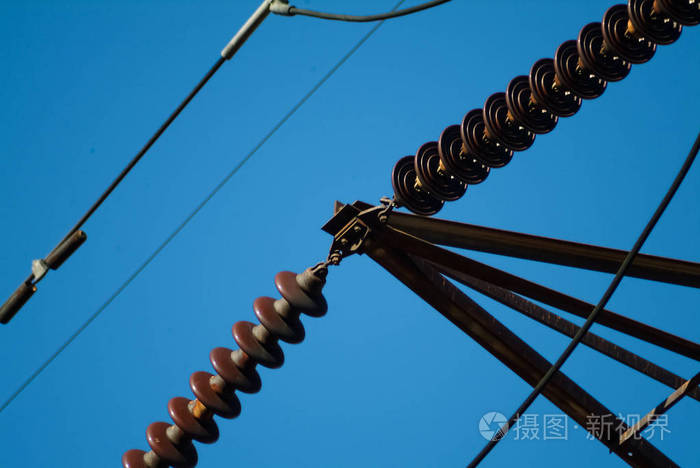insulator: (392, 2, 700, 215), (118, 268, 329, 468)
